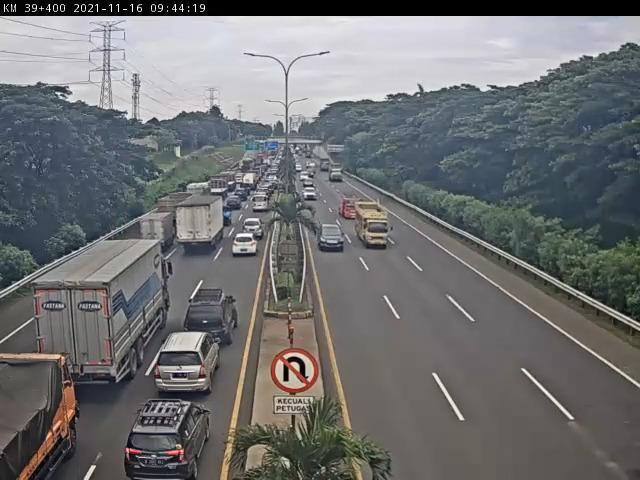car: (127, 394, 209, 473), (159, 328, 221, 384), (190, 286, 238, 340), (320, 221, 347, 254), (230, 236, 257, 262), (244, 219, 264, 240), (229, 196, 242, 210), (255, 196, 268, 210), (305, 187, 315, 196), (303, 169, 312, 178), (296, 164, 304, 171)
truck: (37, 240, 175, 386), (1, 353, 73, 480), (178, 194, 221, 254), (354, 201, 394, 250), (139, 210, 171, 245), (341, 196, 363, 222), (331, 167, 344, 184), (309, 162, 319, 174), (322, 161, 330, 173)
